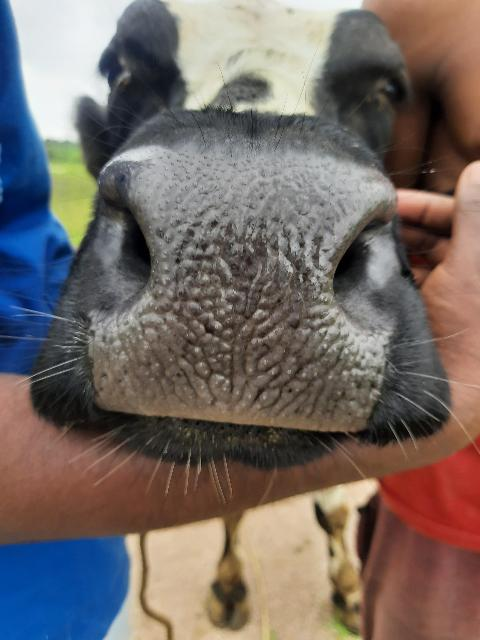Muzzle: (108, 152, 380, 424)
